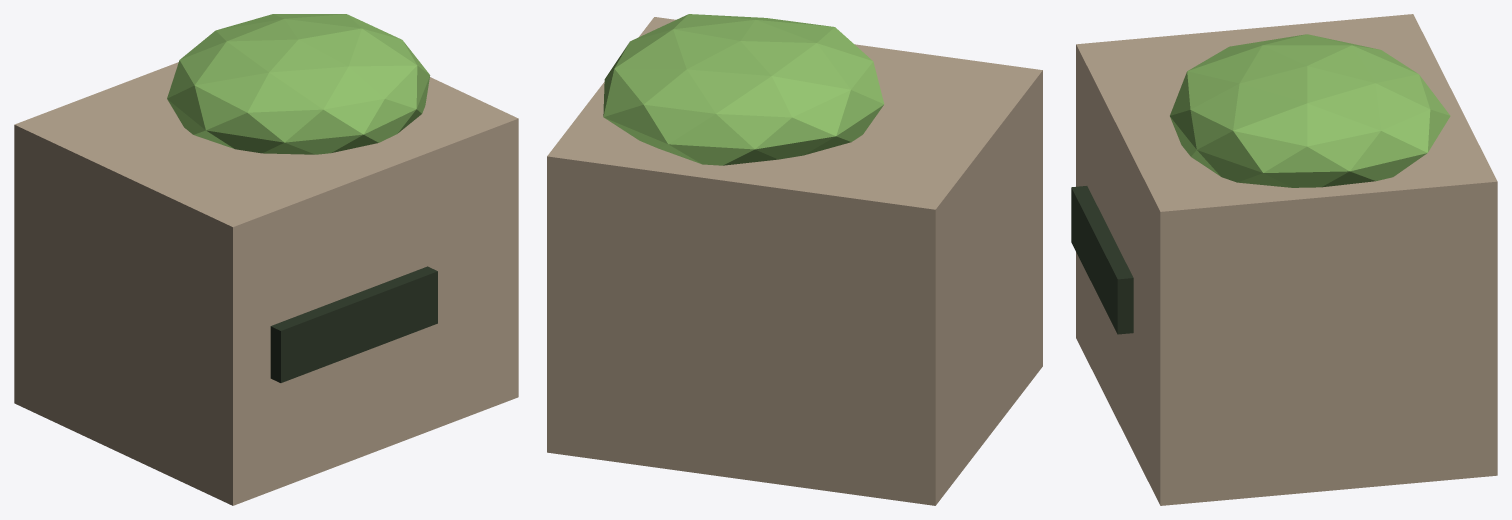
The model's file is ruin-block.glb.
The picture shows the model from 3 angles, left to right: view 1: azimuth 30°, elevation 25°; view 2: azimuth 150°, elevation 25°; view 3: azimuth 270°, elevation 25°; orthographic projection. The views are drawn at different scales.
Visible parts, largest first — view 1: jungle-ruin-block; view 2: jungle-ruin-block; view 3: jungle-ruin-block.
Boxes of the visible parts, x1,y1,x2,y2 form: jungle-ruin-block: (14, 14, 518, 505); jungle-ruin-block: (547, 14, 1042, 505); jungle-ruin-block: (1071, 14, 1497, 505).
Bounding box in the file's own units: 0.4619 × 0.3945 × 0.4205.
